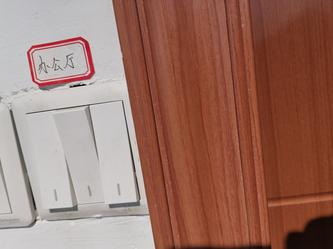switch: (23, 100, 74, 216), (88, 98, 138, 209), (55, 103, 104, 207)
